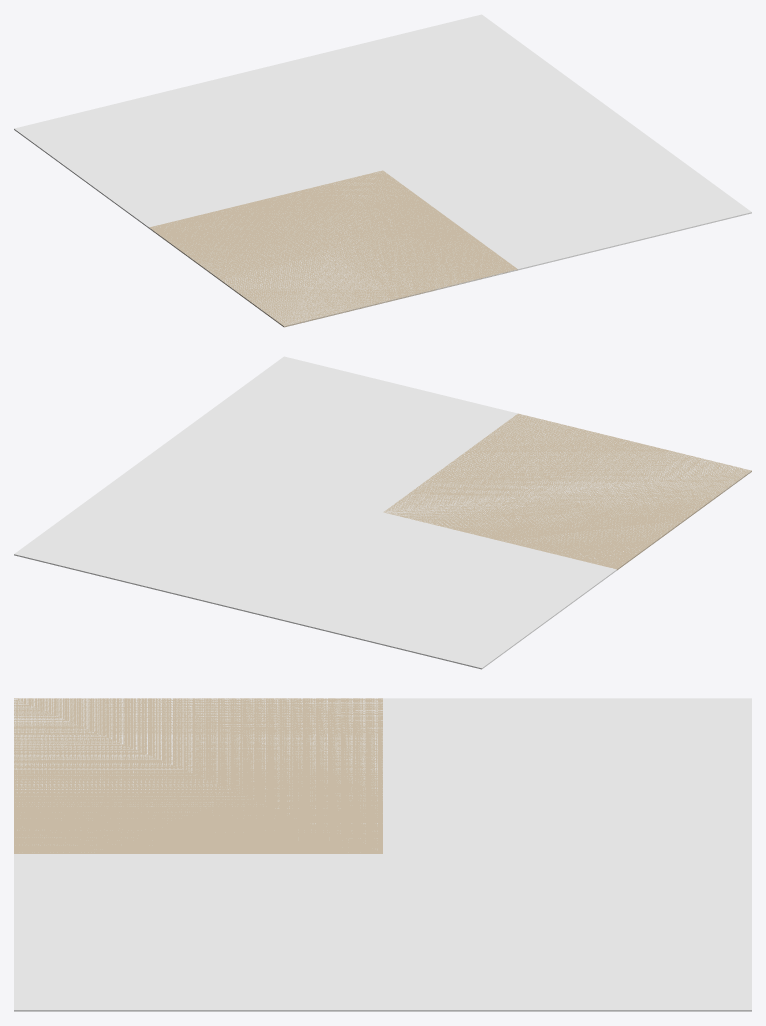
Rendered from CreamFloor_Small.glb.
The picture shows the model from 3 angles, top to bottom: view 1: azimuth 30°, elevation 25°; view 2: azimuth 150°, elevation 25°; view 3: azimuth 270°, elevation 25°; orthographic projection. The views are drawn at different scales.
Visible parts, largest first — view 1: whitePlain.020, WhitesmallPlain.001; view 2: whitePlain.020, WhitesmallPlain.001; view 3: whitePlain.020, WhitesmallPlain.001.
Part boxes in pixels (box(x1,y1,x2,y2)): whitePlain.020: box(14, 14, 751, 326); WhitesmallPlain.001: box(149, 170, 517, 327); whitePlain.020: box(14, 356, 750, 669); WhitesmallPlain.001: box(383, 413, 751, 570); whitePlain.020: box(14, 698, 751, 1011); WhitesmallPlain.001: box(14, 698, 382, 853).
Size of what is drawn, in the model's own units: 4 by 0.01 by 4.
Materials: 1 (1 with a texture image).
